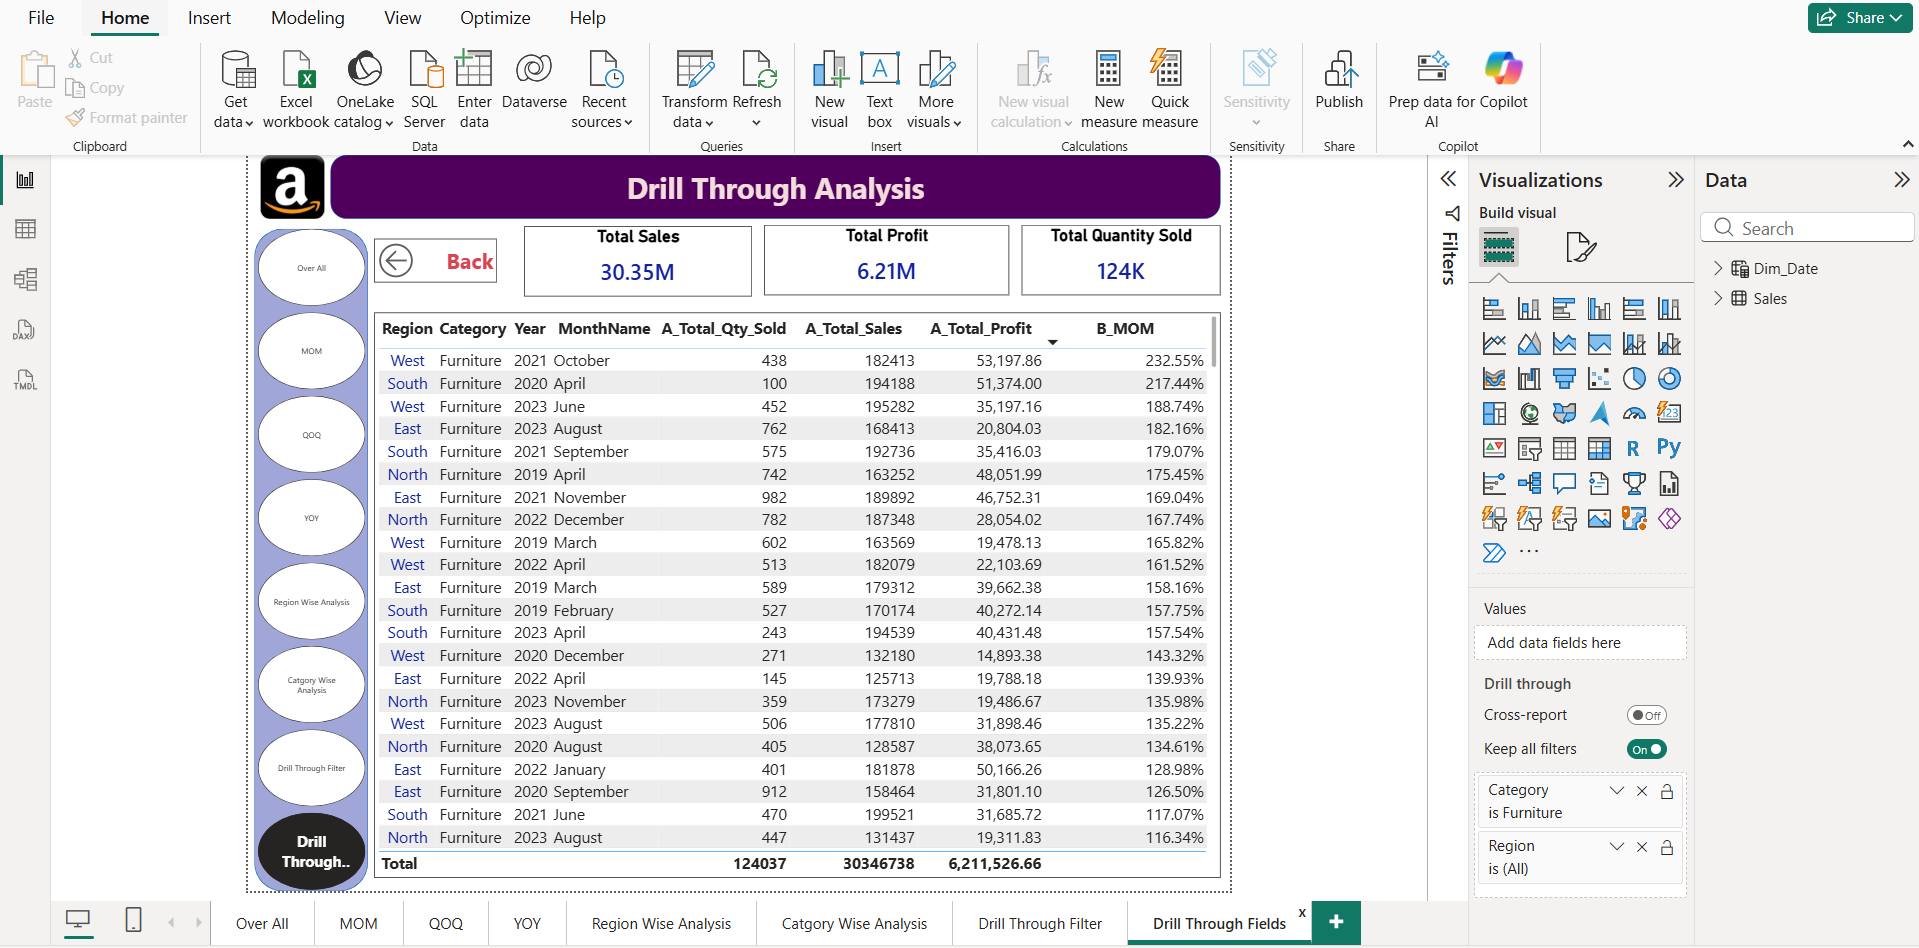

What the dashboard file says about the page in this screenshot:
{"tool":"powerbi","page":{"name":"Drill Through Fields","canvas":[1600,1200],"ordinal":7},"visuals":[{"type":"image","box":[10.2,0,124.3,103.9],"z":0},{"type":"shape","box":[134.5,0,1451.1,103.9],"z":1000},{"type":"cardVisual","title":"Total Sales","fields":{"Data":["Sales.A_Total_Sales"]},"box":[450.4,116.2,370.9,114.1],"z":2000},{"type":"cardVisual","title":"Total Profit","fields":{"Data":["Sales.A_Total_Profit"]},"box":[841.7,114.1,399.5,114.1],"z":3000},{"type":"cardVisual","title":"Total Quantity Sold","fields":{"Data":["Sales.A_Total_Qty_Sold"]},"box":[1261.6,114.1,324.1,114.1],"z":4000},{"type":"tableEx","fields":{"Values":["Sales.Region","Sales.Category","Dim_Date.Year","Dim_Date.MonthName","Sales.A_Total_Qty_Sold","Sales.A_Total_Sales","Sales.A_Total_Profit","Sales.B_MOM"]},"box":[205.8,256.8,1379.8,921.2],"z":5000},{"type":"actionButton","box":[205.8,136.5,199.7,71.3],"z":6000},{"type":"shape","box":[10.2,120.2,185.5,1080.2],"z":7000},{"type":"pageNavigator","box":[16.3,120.2,175.3,1080.2],"z":8000}]}

Visuals, with their boxes on the page's 1600x1200 design canvas (x1, y1, x2, y2). These are canvas units, not pixel positions in the 1919x948 screenshot, which may show the page scaled, cropped or inside an application window:
image: crop(10, 0, 134, 104)
shape: crop(134, 0, 1586, 104)
"Total Sales" cardVisual: crop(450, 116, 821, 230)
"Total Profit" cardVisual: crop(842, 114, 1241, 228)
"Total Quantity Sold" cardVisual: crop(1262, 114, 1586, 228)
tableEx - Sales.Region x Sales.Category: crop(206, 257, 1586, 1178)
actionButton: crop(206, 136, 406, 208)
shape: crop(10, 120, 196, 1200)
pageNavigator: crop(16, 120, 192, 1200)
